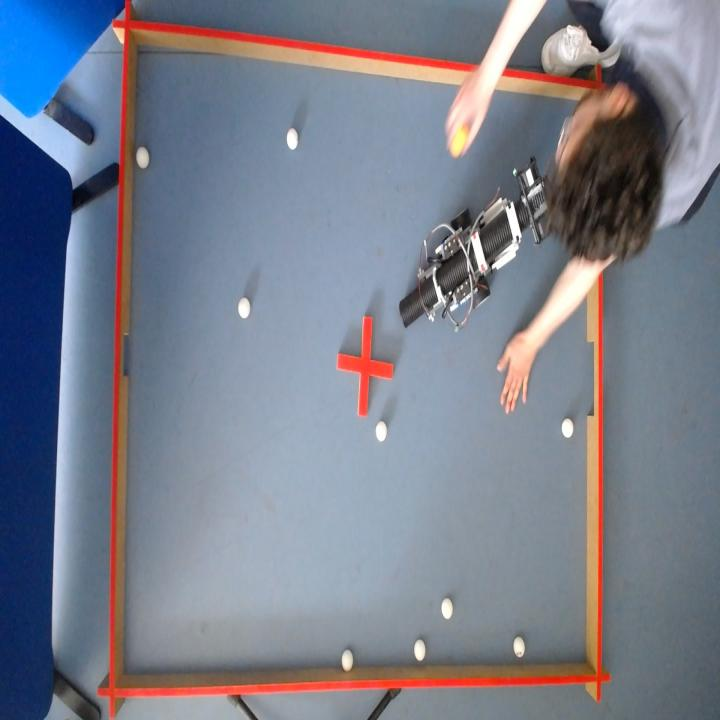robot: (400, 155, 549, 326)
white: (135, 145, 149, 167), (238, 295, 250, 318), (342, 649, 354, 672), (414, 639, 426, 662), (442, 597, 454, 620), (562, 417, 575, 438), (286, 126, 298, 148), (514, 637, 526, 658), (376, 420, 387, 441)
